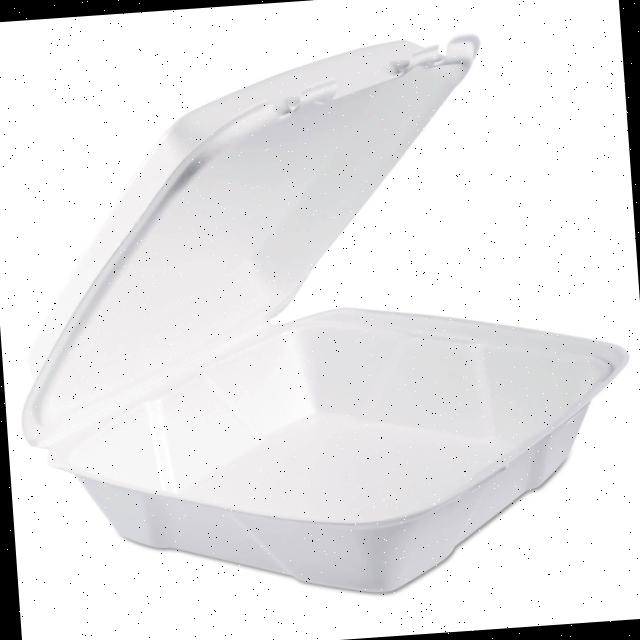styrofoam: (0, 20, 640, 618)
